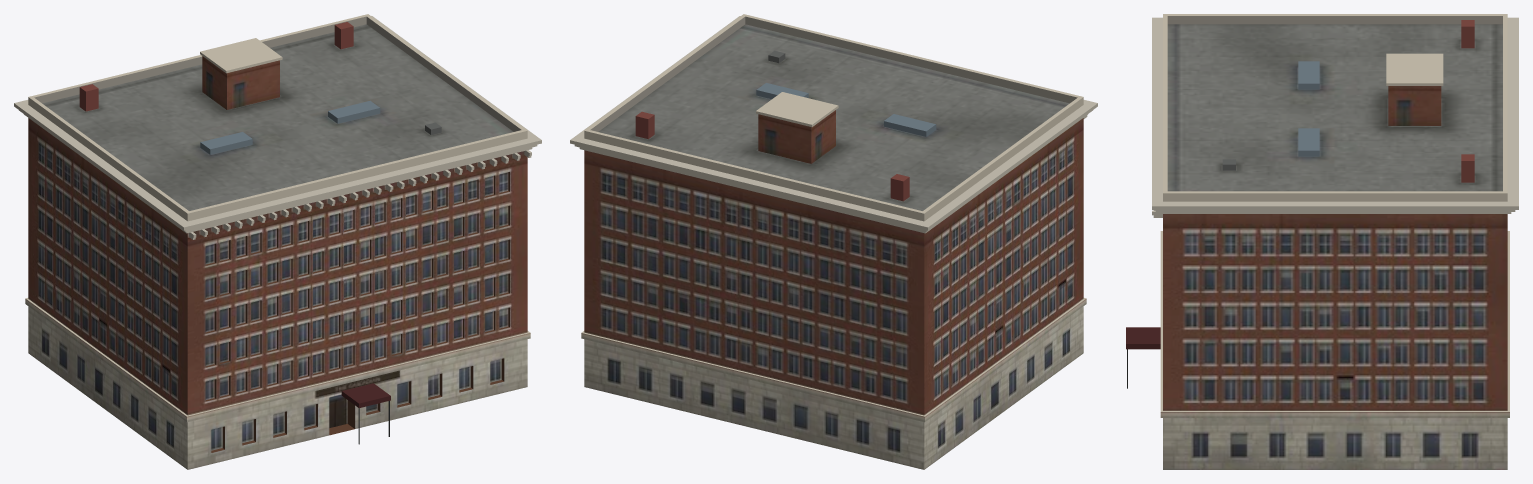
Rendered from seattle_belltown_c.glb.
3 views of the same model, side by side, from view 1: azimuth 30°, elevation 25°; view 2: azimuth 150°, elevation 25°; view 3: azimuth 270°, elevation 25° (orthographic). The views are drawn at different scales.
Visible parts, largest first — view 1: seattle_belltown_c; view 2: seattle_belltown_c; view 3: seattle_belltown_c.
Part boxes in pixels (bbox=[...]): seattle_belltown_c: bbox=[14, 14, 541, 469]; seattle_belltown_c: bbox=[570, 14, 1097, 469]; seattle_belltown_c: bbox=[1126, 14, 1518, 469].
Bounding box in the file's own units: 33.7 × 25.97 × 29.65.
Materials: 1 (1 with a texture image).
